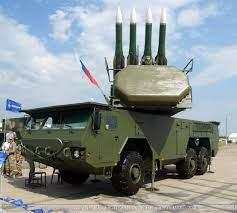rszo: (10, 3, 232, 203)
